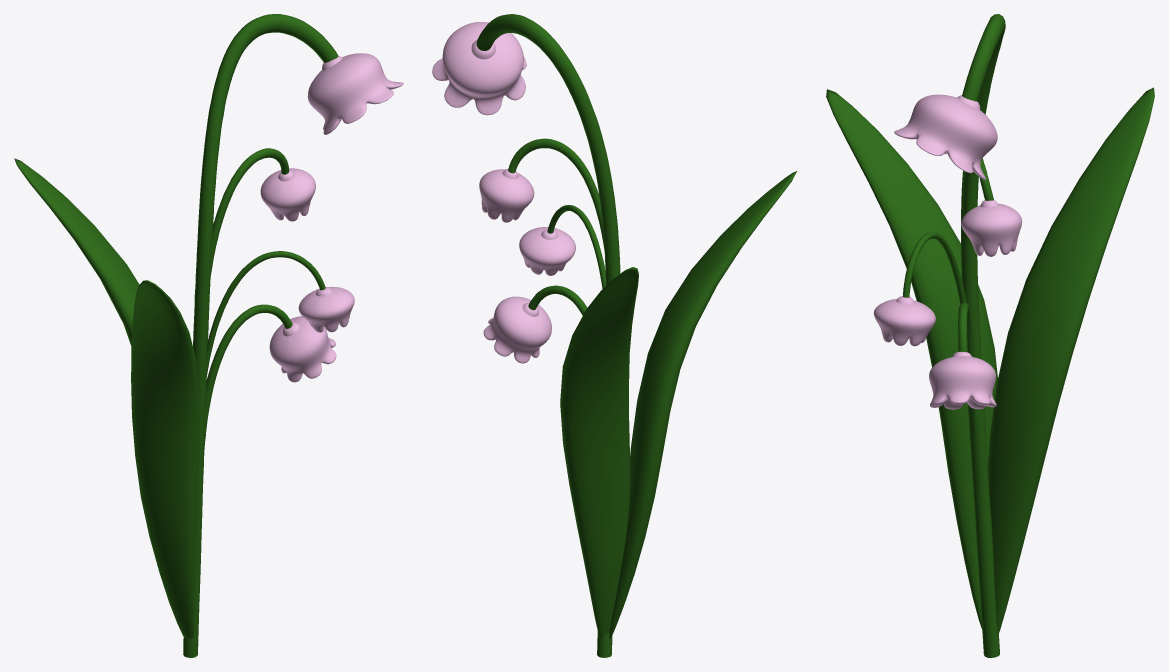
The picture shows the model from 3 angles, left to right: view 1: azimuth 30°, elevation 25°; view 2: azimuth 150°, elevation 25°; view 3: azimuth 270°, elevation 25°; orthographic projection. The views are drawn at different scales.
Parts seen in each view (by area): view 1: f02; view 2: f02; view 3: f02.
Boxes of the visible parts, x1=… form: f02: x1=14, y1=14, x2=403, y2=657; f02: x1=432, y1=14, x2=796, y2=657; f02: x1=826, y1=14, x2=1154, y2=657.
Size of the model in its own units: 0.5034 by 0.983 by 0.4312.
